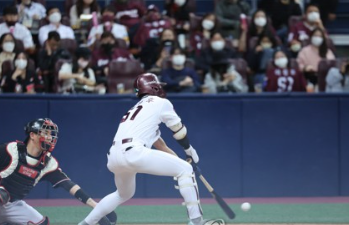ball: (240, 200, 251, 212)
